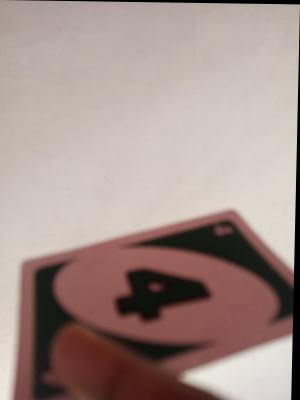num_4: (70, 260, 249, 325)
